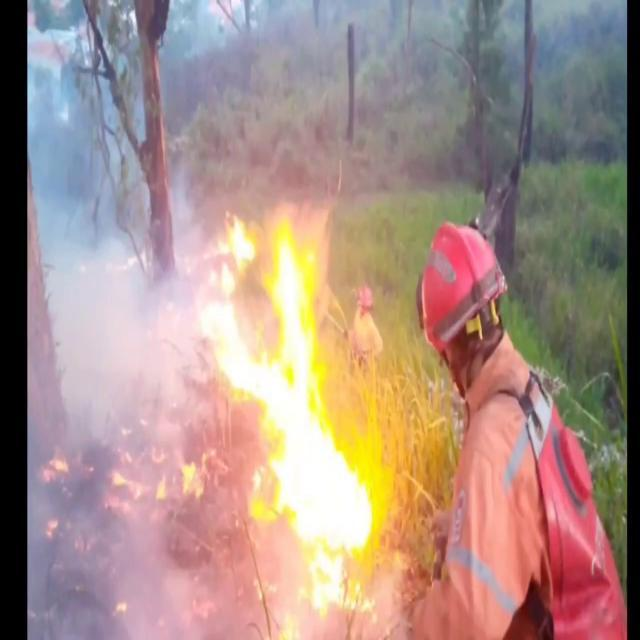Fire: (194, 204, 386, 602)
Smoke: (32, 208, 208, 507)
